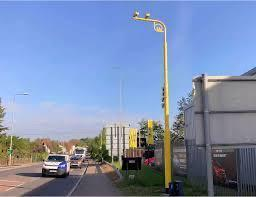Speed-Camera: (131, 7, 153, 21)
